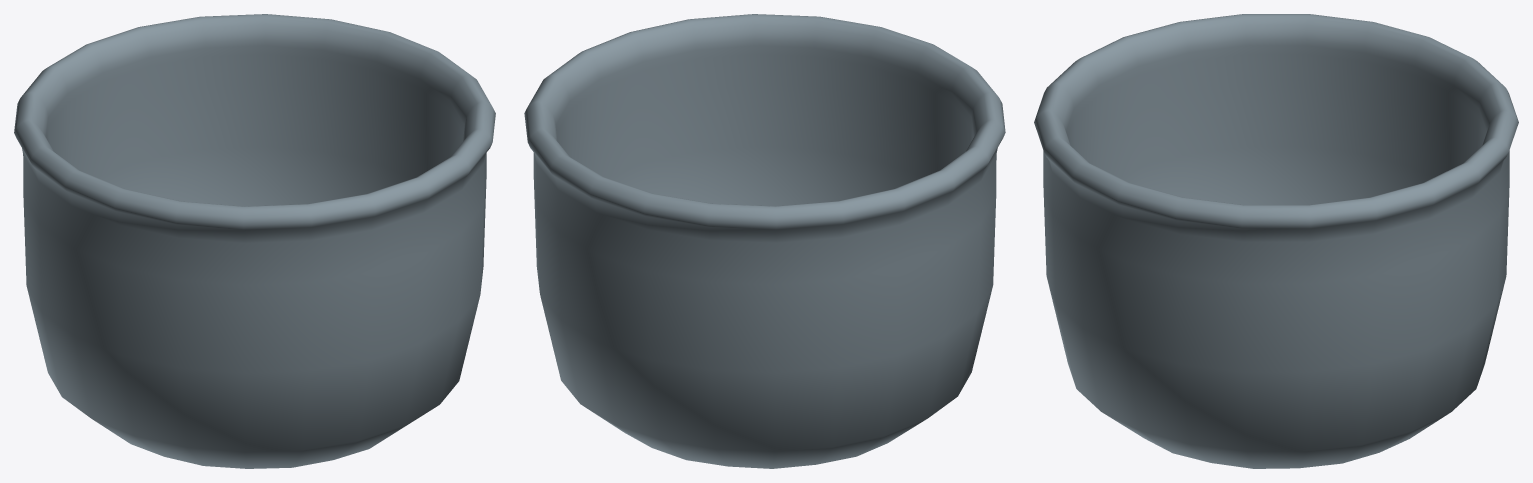
Rendered from Bowl.fbx.
3 renders of one model, left to right at view 1: azimuth 30°, elevation 25°; view 2: azimuth 150°, elevation 25°; view 3: azimuth 270°, elevation 25°, orthographic.
Parts seen in each view (by area): view 1: Bowl; view 2: Bowl; view 3: Bowl.
Boxes of the visible parts, x1,y1,x2,y2 form: Bowl: [14, 14, 495, 468]; Bowl: [524, 14, 1005, 468]; Bowl: [1034, 14, 1518, 468].
Bounding box in the file's own units: 11.9 × 12.02 × 8.15.
Materials: 1 (1 with a texture image).
